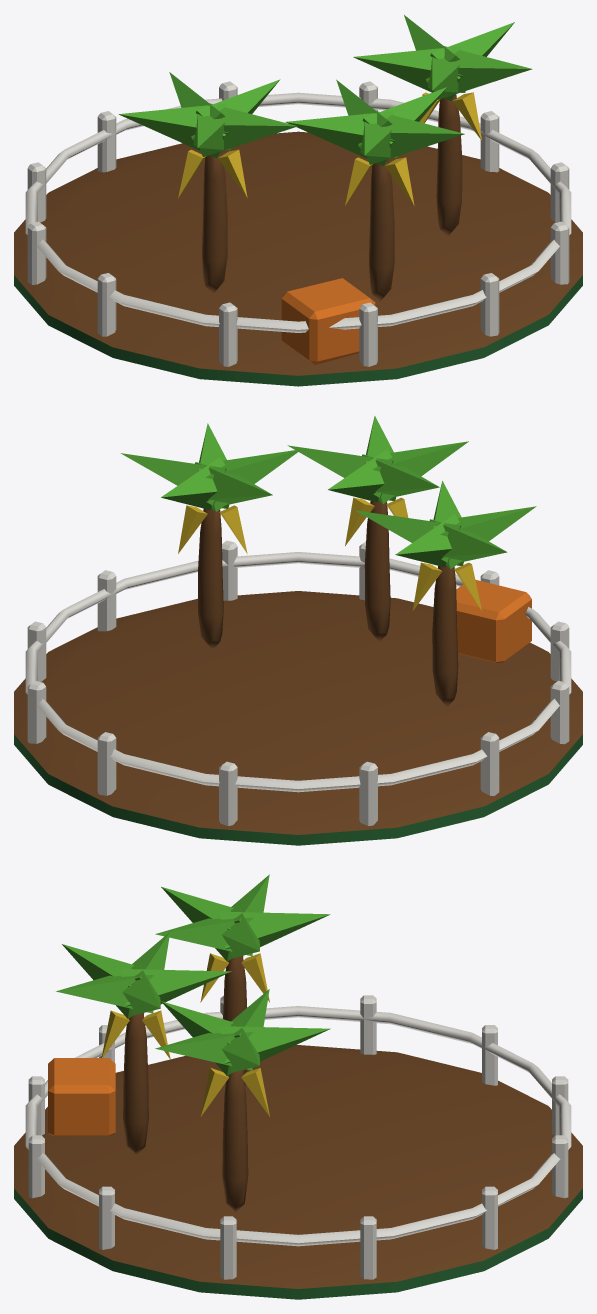
3 views of the same model, one above another, from view 1: azimuth 30°, elevation 25°; view 2: azimuth 150°, elevation 25°; view 3: azimuth 270°, elevation 25° (orthographic).
Visible parts, largest first — view 1: fazenda_0_base, fazenda_1_torreta; view 2: fazenda_0_base, fazenda_1_torreta; view 3: fazenda_0_base, fazenda_1_torreta.
Boxes of the visible parts, x1=… form: fazenda_0_base: x1=14, y1=81, x2=582, y2=386; fazenda_1_torreta: x1=118, y1=15, x2=532, y2=301; fazenda_0_base: x1=14, y1=540, x2=582, y2=845; fazenda_1_torreta: x1=120, y1=416, x2=536, y2=706; fazenda_0_base: x1=14, y1=995, x2=582, y2=1299; fazenda_1_torreta: x1=56, y1=874, x2=330, y2=1213.
Size of the model in its own units: 1.28 by 0.5151 by 1.26.
